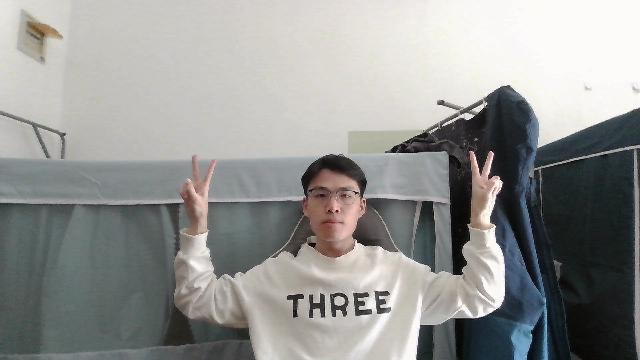yes: (178, 154, 217, 230), (468, 148, 502, 229)
